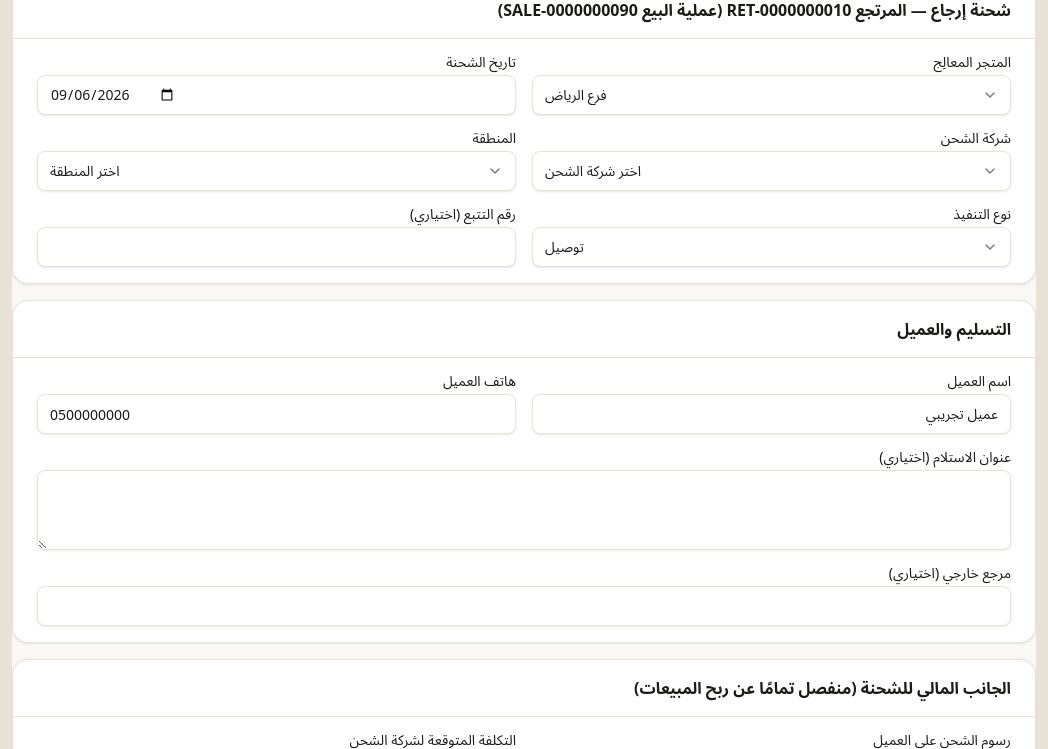
Test: ShipmentEntryForm — Hotfix 5.1.1 items 1/2/3 (return shipping fee) › item 1: once the actor types a value that diverges from the live suggestion, the mandatory override-reason field appears and gates submission
Press the mouse on the dropdown labelled "اختر المنطقة" at [85, 170], box top-left (37, 151), bottom-right (516, 191)
Click the dropdown labelled "اختر المنطقة".
click(85, 170)  # box top-left (37, 151), bottom-right (516, 191)
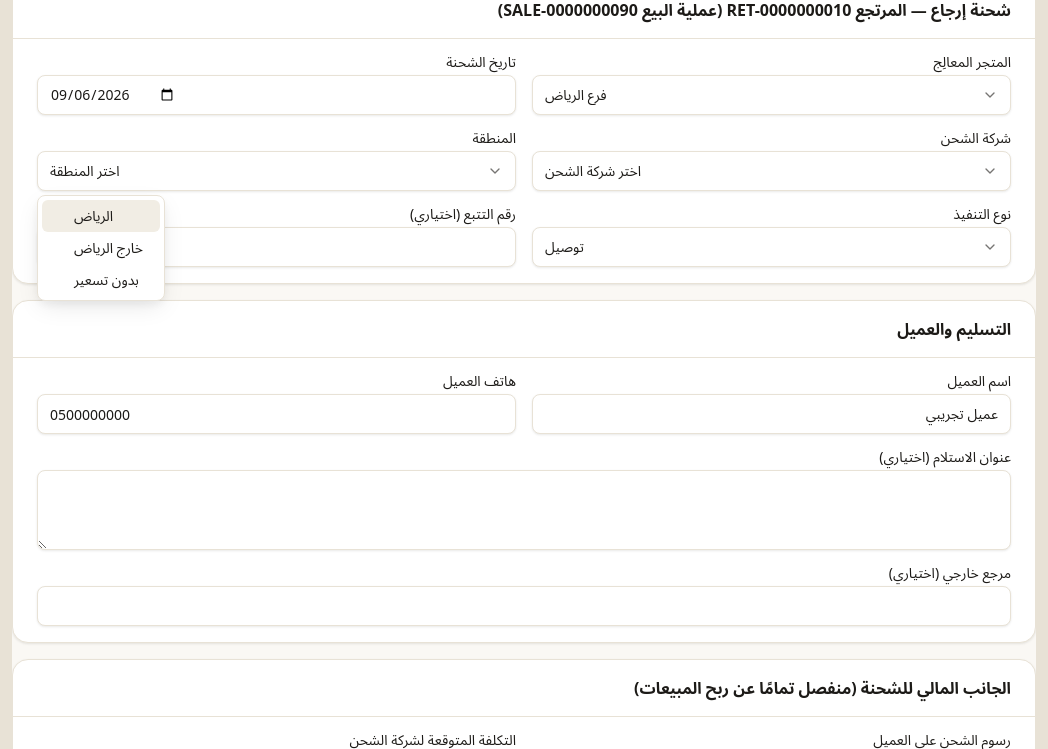
Click the option "الرياض".
click(101, 216)  # box top-left (42, 200), bottom-right (160, 232)
(page scrolled)
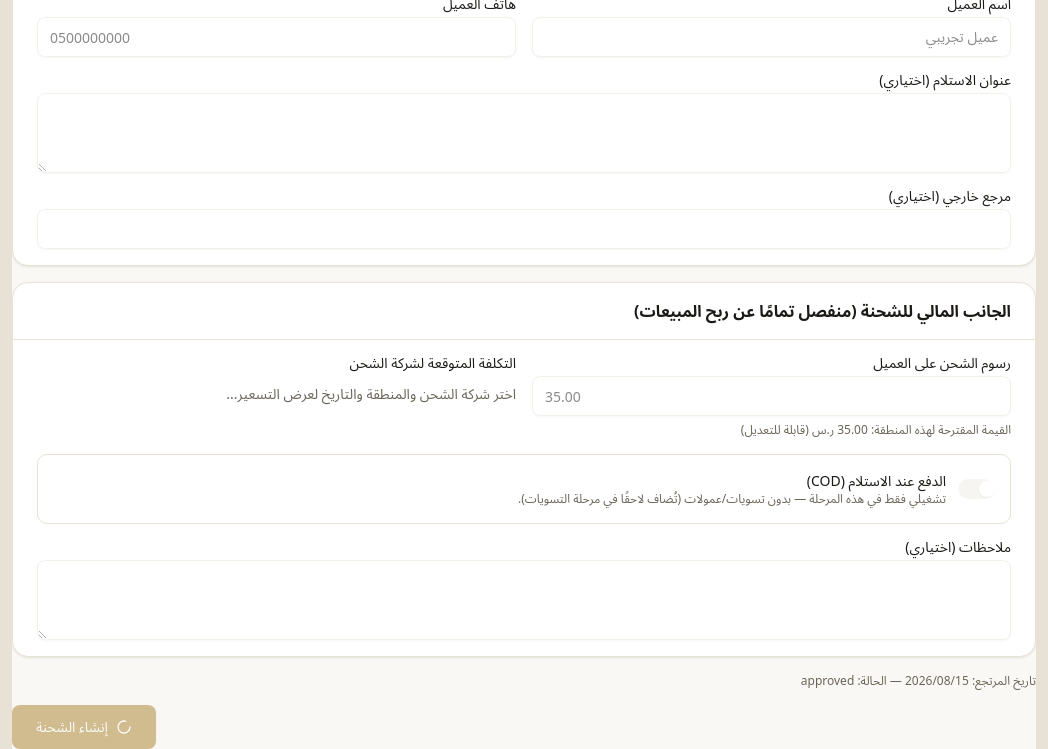
expect the field showing "35.00" below "رسوم الشحن على العميل" is shown: met
Replace the text in the field showing "35.00" below "رسوم الشحن على العميل" with "60.00" at [772, 396], box top-left (532, 376), bottom-right (1011, 416)
(page scrolled)
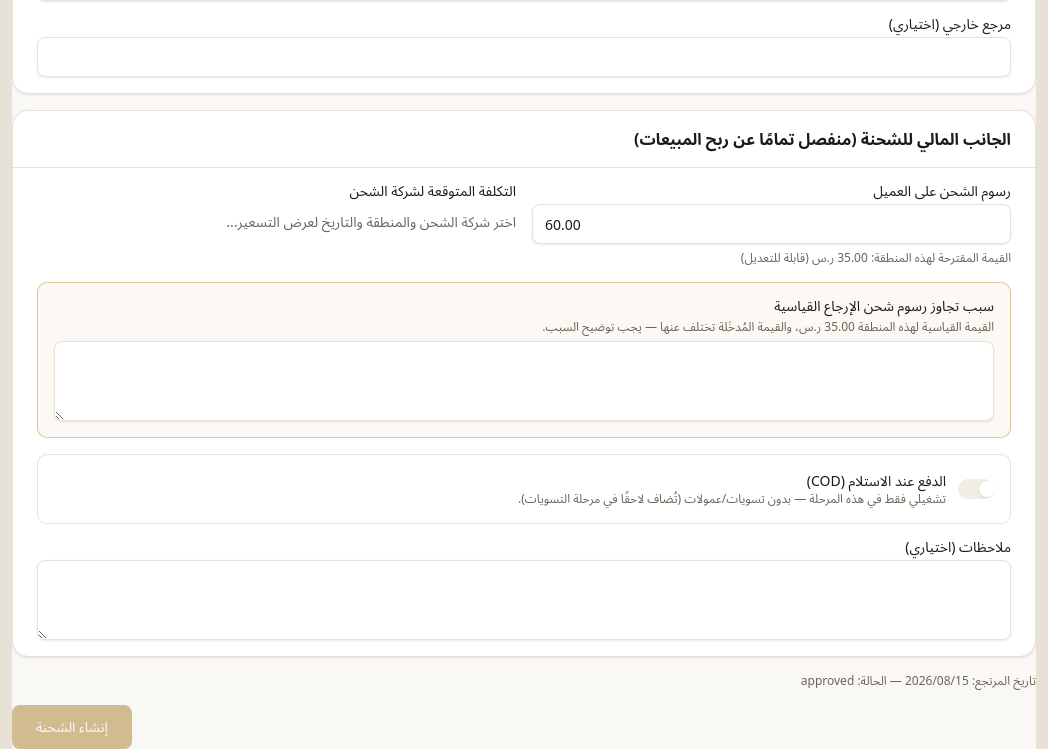
expect the button "إنشاء الشحنة" is disabled: met, box top-left (12, 705), bottom-right (132, 748)
expect the text "سبب تجاوز رسوم شحن الإرجاع القياسية" is shown: met, box top-left (774, 296), bottom-right (994, 315)
expect the text "القيمة القياسية لهذه المنطقة 35.00 ر.س" is shown: met, box top-left (542, 318), bottom-right (994, 335)
